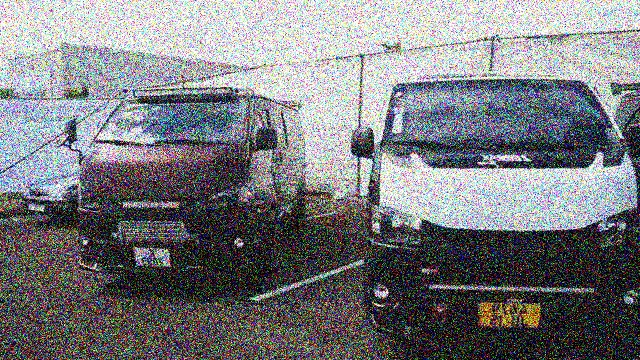van: (359, 71, 631, 327), (62, 74, 312, 292)
